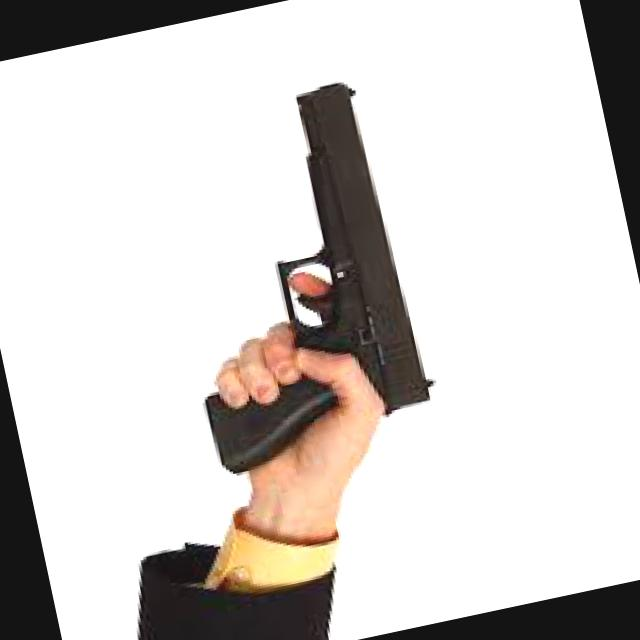handgun: (145, 62, 450, 488)
